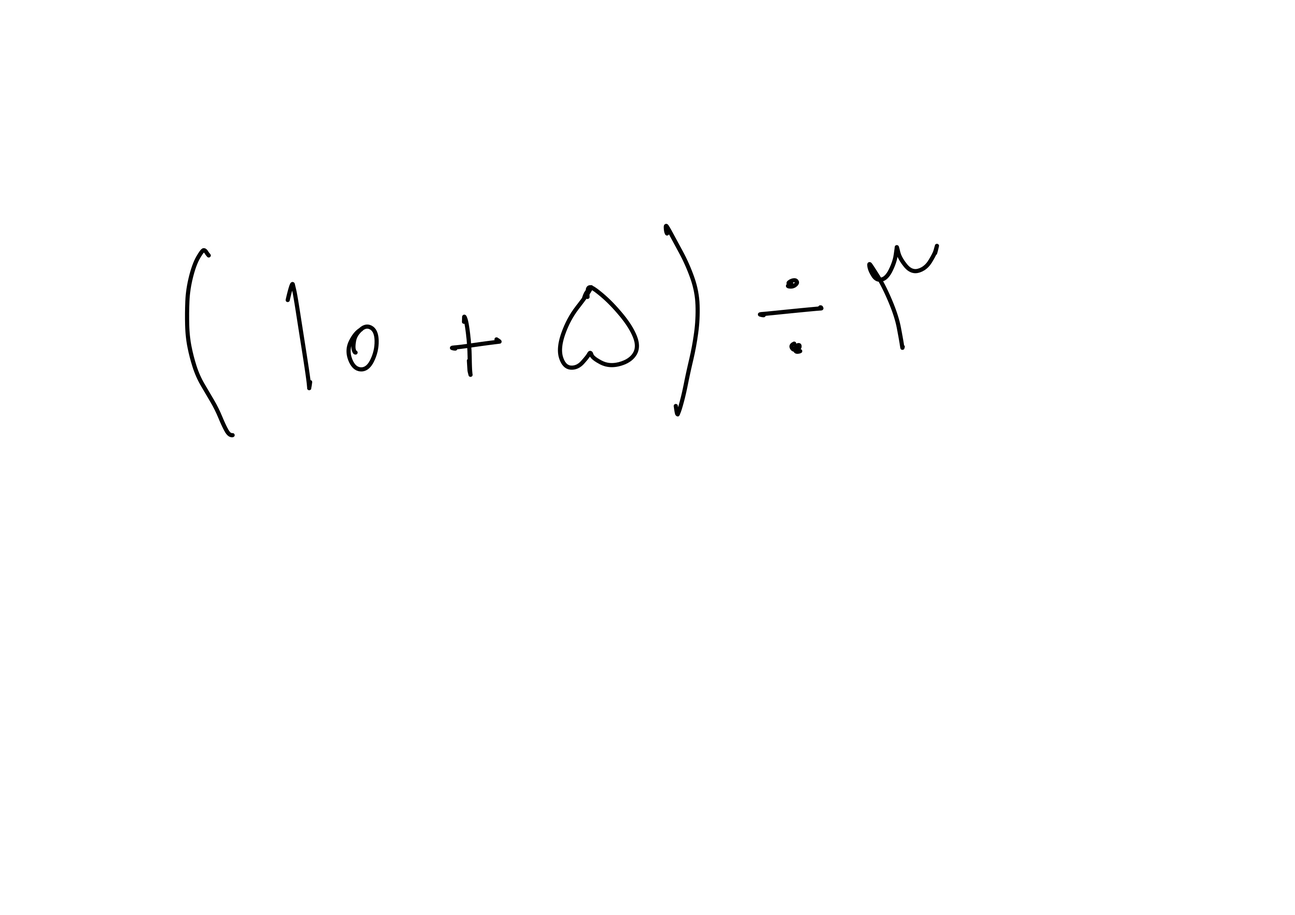character: (184, 247, 237, 439), (658, 223, 702, 419), (868, 243, 940, 349), (555, 285, 640, 369), (756, 277, 824, 359), (449, 313, 501, 377), (285, 281, 313, 391), (345, 323, 379, 375)
